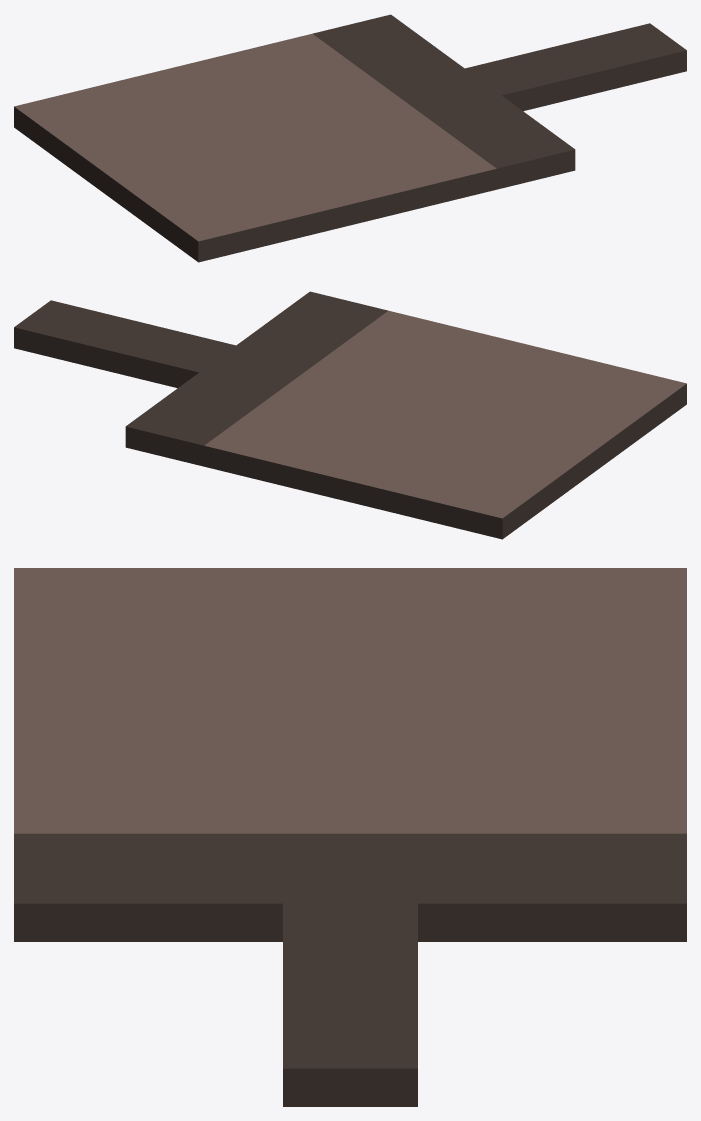
Rendered from floor.fbx.
3 renders of one model, top to bottom at view 1: azimuth 30°, elevation 25°; view 2: azimuth 150°, elevation 25°; view 3: azimuth 270°, elevation 25°, orthographic. The views are drawn at different scales.
Visible parts, largest first — view 1: floor; view 2: floor; view 3: floor.
Boxes of the visible parts, <box> form: floor: <box>14,14,686,262</box>; floor: <box>14,291,686,539</box>; floor: <box>14,568,686,1106</box>.
Size of the model in its own units: 162 by 5.77 by 91.99.
